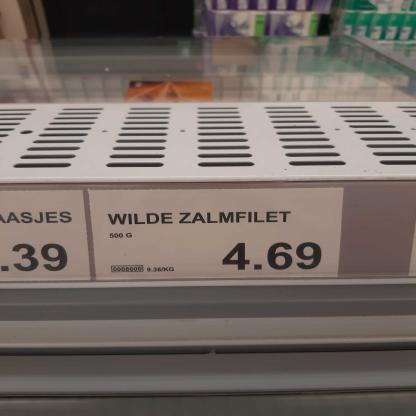prtg: (86, 186, 349, 282), (1, 190, 92, 284)
